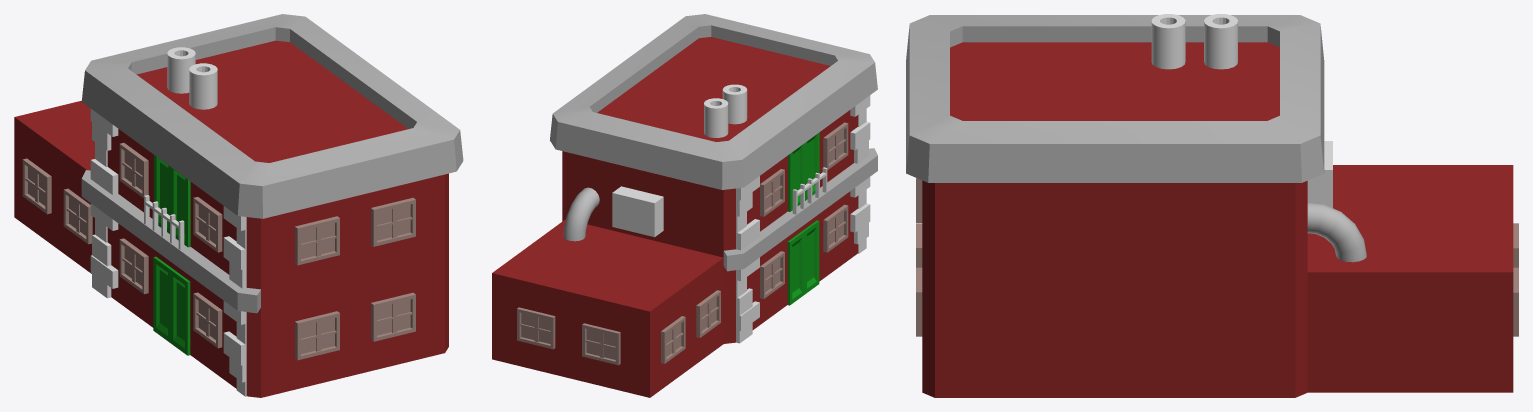
File: batiment 1.FBX
The picture shows the model from 3 angles, left to right: view 1: azimuth 30°, elevation 25°; view 2: azimuth 150°, elevation 25°; view 3: azimuth 270°, elevation 25°; orthographic projection. The views are drawn at different scales.
Visible parts, largest first — view 1: batiment principal, haut, fenetre, brique, millieu, porte entrée, cheminée, porte haut, rambarde; view 2: batiment principal, haut, fenetre, brique, millieu, panneau electrique, porte entrée, cheminée, porte haut, tuyau, rambarde; view 3: batiment principal, haut, cheminée, tuyau, fenetre, panneau electrique.
Boxes of the visible parts, left/top/right/bottom form: batiment principal: left=14, top=40, right=448, bottom=397; haut: left=81, top=14, right=463, bottom=218; fenetre: left=22, top=142, right=415, bottom=360; brique: left=90, top=108, right=246, bottom=396; millieu: left=81, top=170, right=260, bottom=313; porte entrée: left=153, top=256, right=190, bottom=355; cheminée: left=167, top=47, right=217, bottom=109; porte haut: left=154, top=155, right=190, bottom=247; rambarde: left=144, top=195, right=184, bottom=249; batiment principal: left=492, top=37, right=857, bottom=397; haut: left=550, top=14, right=877, bottom=189; fenetre: left=517, top=122, right=848, bottom=365; brique: left=736, top=95, right=870, bottom=343; millieu: left=723, top=148, right=877, bottom=271; panneau electrique: left=612, top=186, right=663, bottom=237; porte entrée: left=787, top=220, right=819, bottom=305; cheminée: left=704, top=84, right=747, bottom=137; porte haut: left=788, top=132, right=819, bottom=211; tuyau: left=563, top=187, right=599, bottom=241; rambarde: left=792, top=167, right=827, bottom=214; batiment principal: left=922, top=42, right=1513, bottom=397; haut: left=906, top=15, right=1324, bottom=182; cheminée: left=1151, top=14, right=1237, bottom=69; tuyau: left=1307, top=202, right=1366, bottom=262; fenetre: left=916, top=178, right=1518, bottom=336; panneau electrique: left=1307, top=141, right=1332, bottom=208.
Size of the model in its own units: 795 by 816 by 1561.
